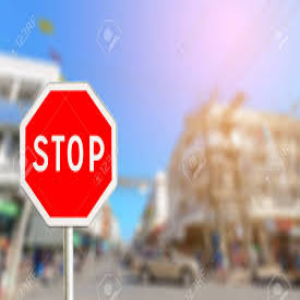STOP_SIGN: (19, 82, 118, 226)
